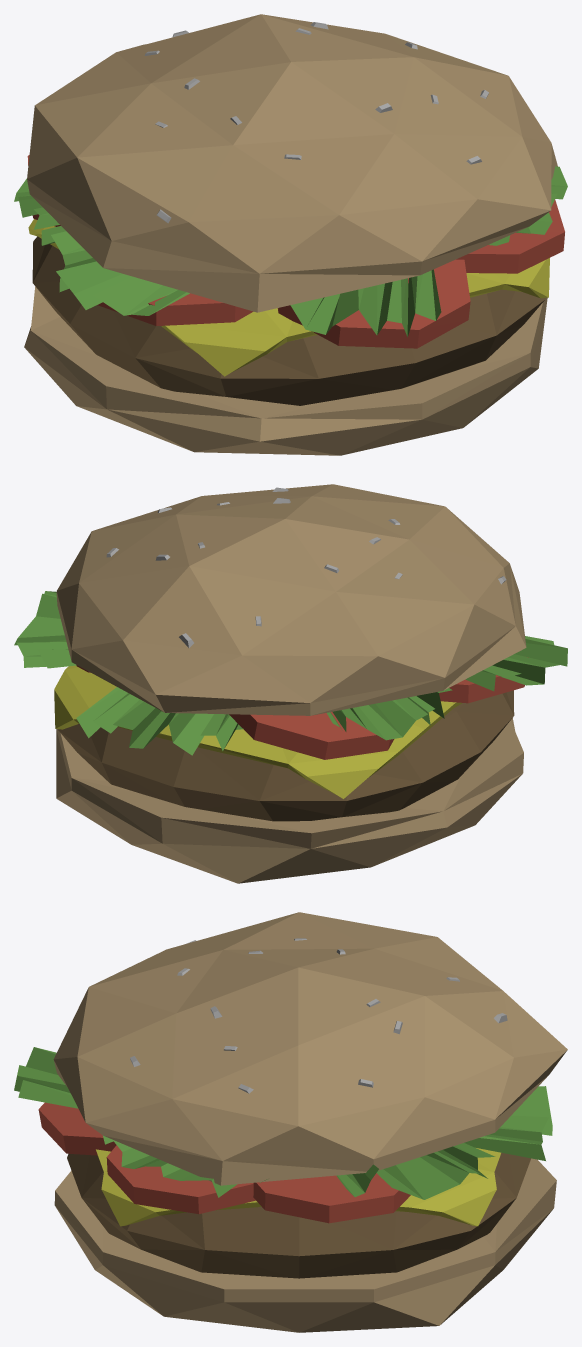
Rendered from burger.glb.
3 renders of one model, top to bottom at view 1: azimuth 30°, elevation 25°; view 2: azimuth 150°, elevation 25°; view 3: azimuth 270°, elevation 25°, orthographic. The views are drawn at different scales.
Visible parts, largest first — view 1: Burger; view 2: Burger; view 3: Burger.
Part boxes in pixels (left/top/right/bottom): Burger: left=14, top=14, right=567, bottom=455; Burger: left=14, top=484, right=567, bottom=883; Burger: left=14, top=912, right=567, bottom=1332.
Size of the model in its own units: 1.65 by 1.07 by 1.7.
1 material, 1 textured.
